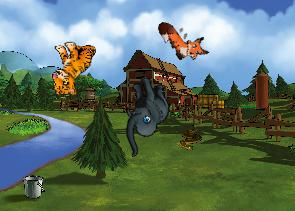elephant: (105, 72, 183, 157)
fox: (154, 8, 212, 70)
tiger: (50, 40, 96, 95)
